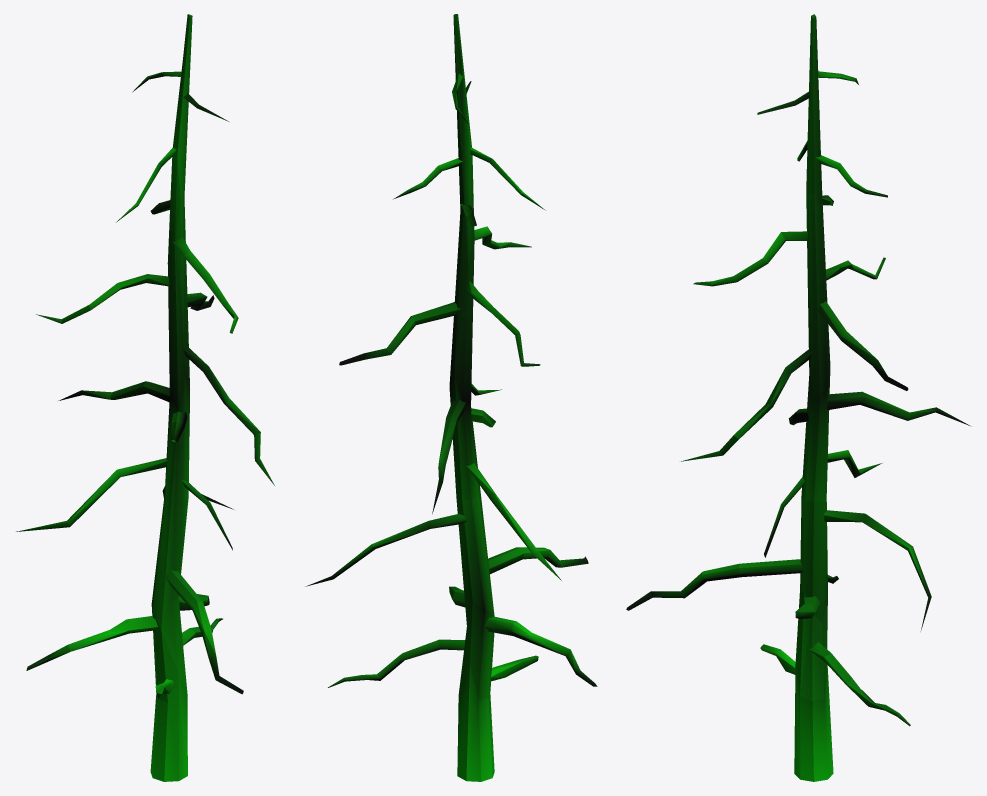
The model's file is SM_Collision_PineDead03.fbx.
3 views of the same model, side by side, from view 1: azimuth 30°, elevation 25°; view 2: azimuth 150°, elevation 25°; view 3: azimuth 270°, elevation 25° (orthographic).
Parts seen in each view (by area): view 1: SM_Collision_PineDead03; view 2: SM_Collision_PineDead03; view 3: SM_Collision_PineDead03.
Part boxes in pixels (left/top/right/bottom): SM_Collision_PineDead03: left=16, top=14, right=274, bottom=781; SM_Collision_PineDead03: left=306, top=14, right=597, bottom=781; SM_Collision_PineDead03: left=626, top=14, right=970, bottom=781.
Size of the model in its own units: 666 by 1910 by 780.
